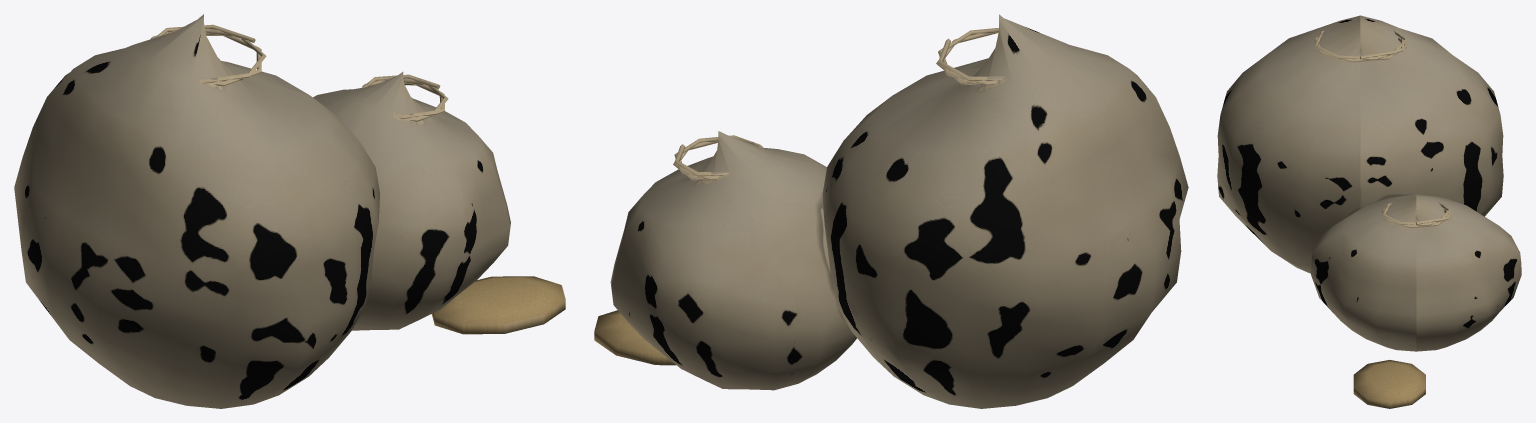
The model's file is SM_Barracks_Sack.fbx.
The picture shows the model from 3 angles, left to right: view 1: azimuth 30°, elevation 25°; view 2: azimuth 150°, elevation 25°; view 3: azimuth 270°, elevation 25°; orthographic projection. The views are drawn at different scales.
Visible parts, largest first — view 1: SM_Barracks_Sack; view 2: SM_Barracks_Sack; view 3: SM_Barracks_Sack.
Boxes of the visible parts, x1,y1,x2,y2 form: SM_Barracks_Sack: [14, 14, 565, 408]; SM_Barracks_Sack: [594, 14, 1188, 408]; SM_Barracks_Sack: [1217, 15, 1521, 408].
Bounding box in the file's own units: 91.42 × 65.37 × 65.14.
